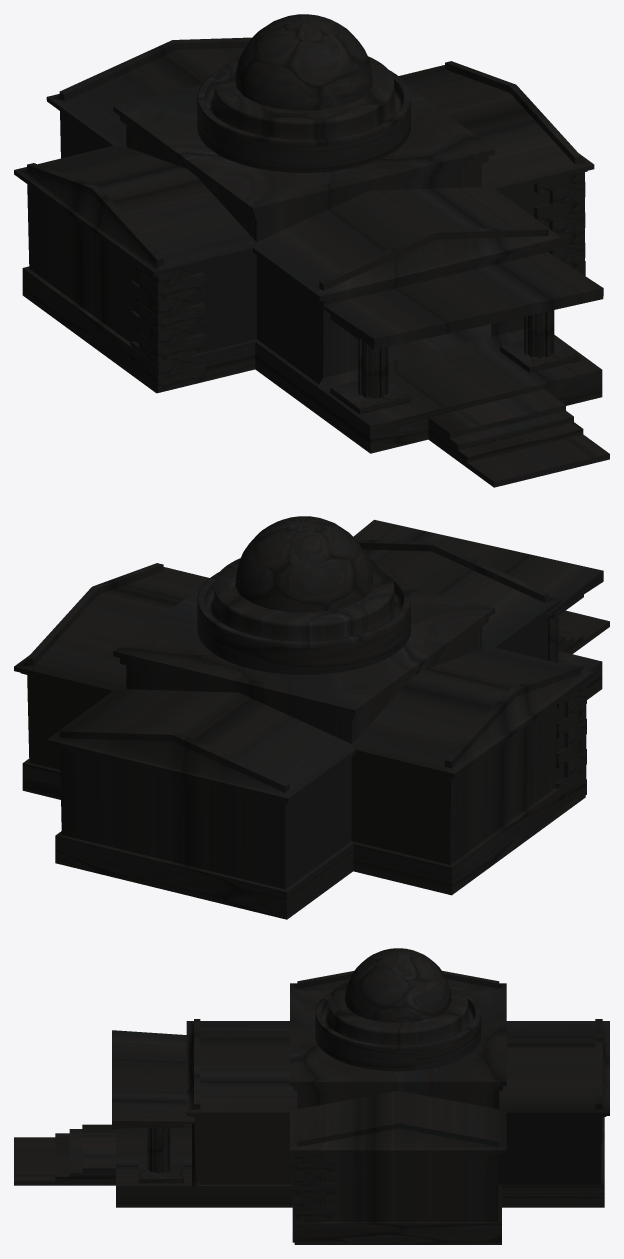
The model's file is Mausoleum.fbx.
3 renders of one model, top to bottom at view 1: azimuth 30°, elevation 25°; view 2: azimuth 150°, elevation 25°; view 3: azimuth 270°, elevation 25°, orthographic. The views are drawn at different scales.
Parts seen in each view (by area): view 1: polySurface62; view 2: polySurface62; view 3: polySurface62.
Part boxes in pixels (x1,y1,x2,y2): polySurface62: (14,14,609,487); polySurface62: (14,516,609,919); polySurface62: (14,948,609,1244).
Size of the model in its own units: 49.64 by 29.22 by 74.97.
Materials: 1 (1 with a texture image).
